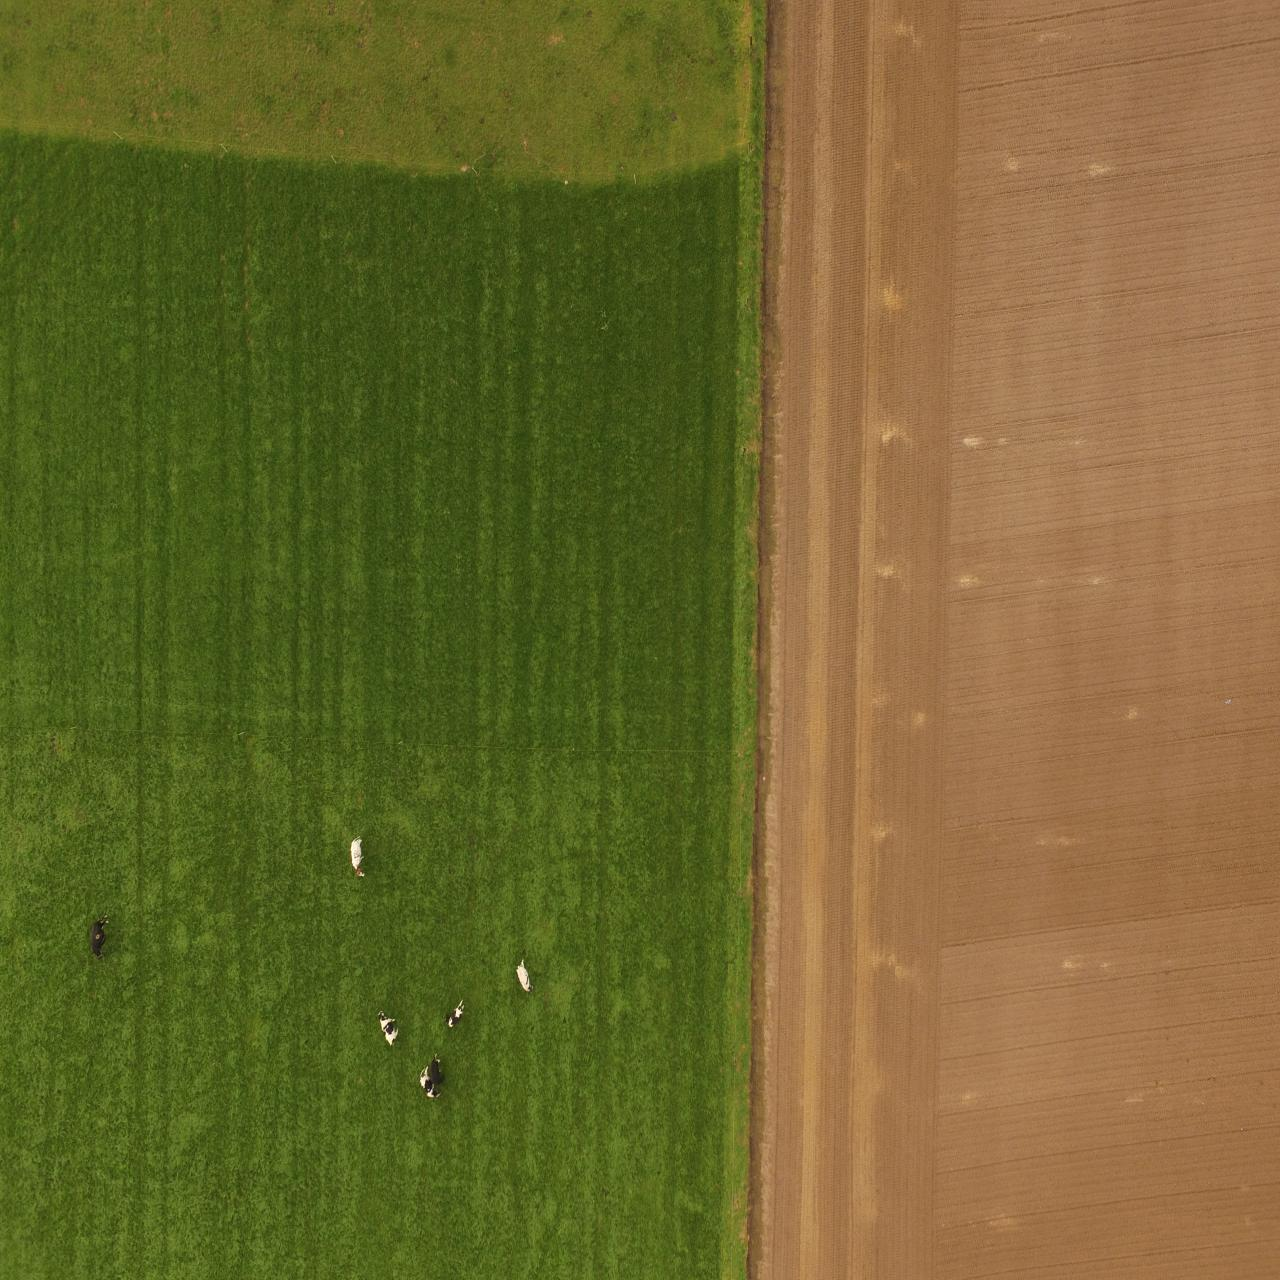cow: (88, 911, 109, 961), (375, 1009, 400, 1046), (420, 1064, 442, 1103), (444, 998, 467, 1030), (516, 959, 536, 993), (352, 835, 365, 880), (430, 1055, 443, 1085)
